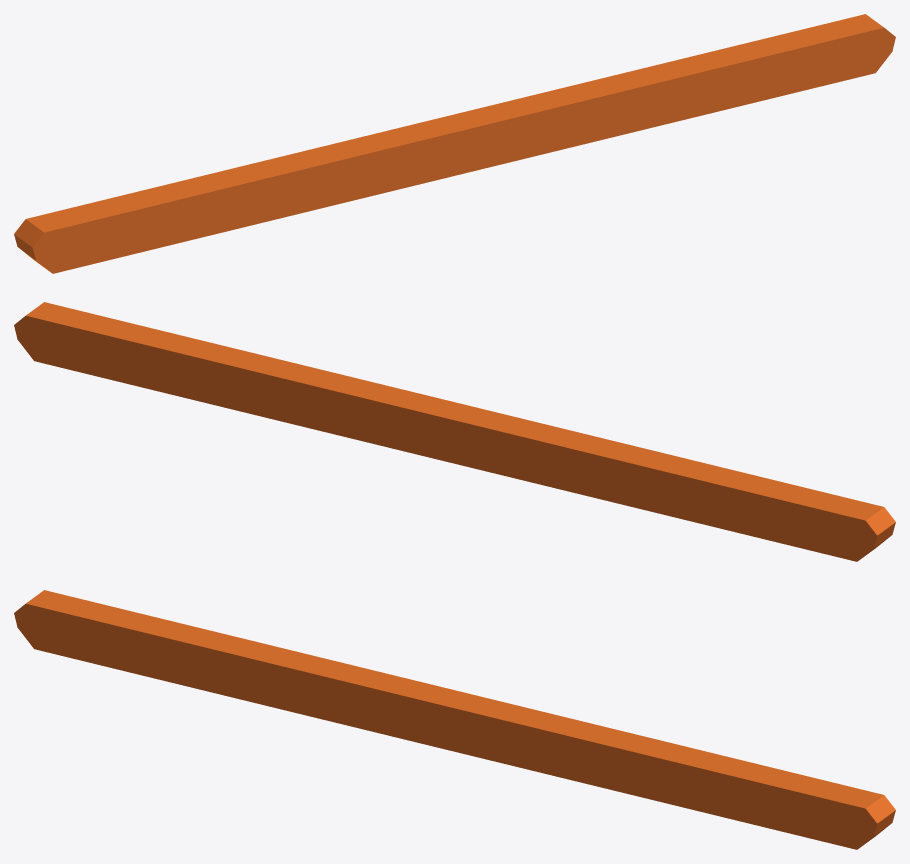
Rendered from frame-beam-fullspan.fbx.
3 renders of one model, top to bottom at view 1: azimuth 30°, elevation 25°; view 2: azimuth 150°, elevation 25°; view 3: azimuth 330°, elevation 25°, orthographic.
Parts seen in each view (by area): view 1: 额枋1; view 2: 额枋1; view 3: 额枋1.
Boxes of the visible parts, x1,y1,x2,y2 form: 额枋1: (14,14,895,273); 额枋1: (14,302,895,561); 额枋1: (14,590,895,849).
Size of the model in its own units: 2970 by 143 by 111.
